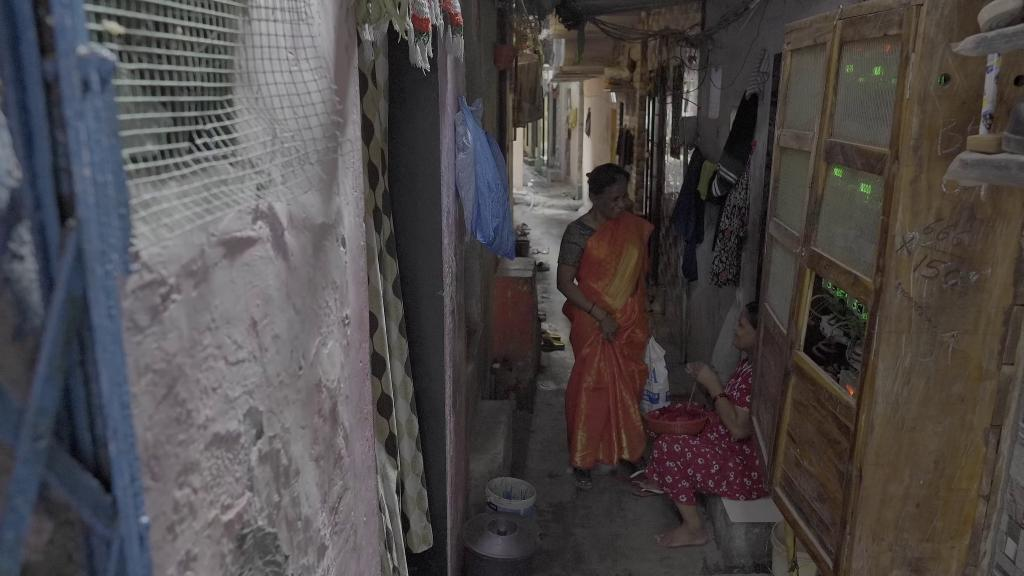garbage: (453, 96, 520, 262)
